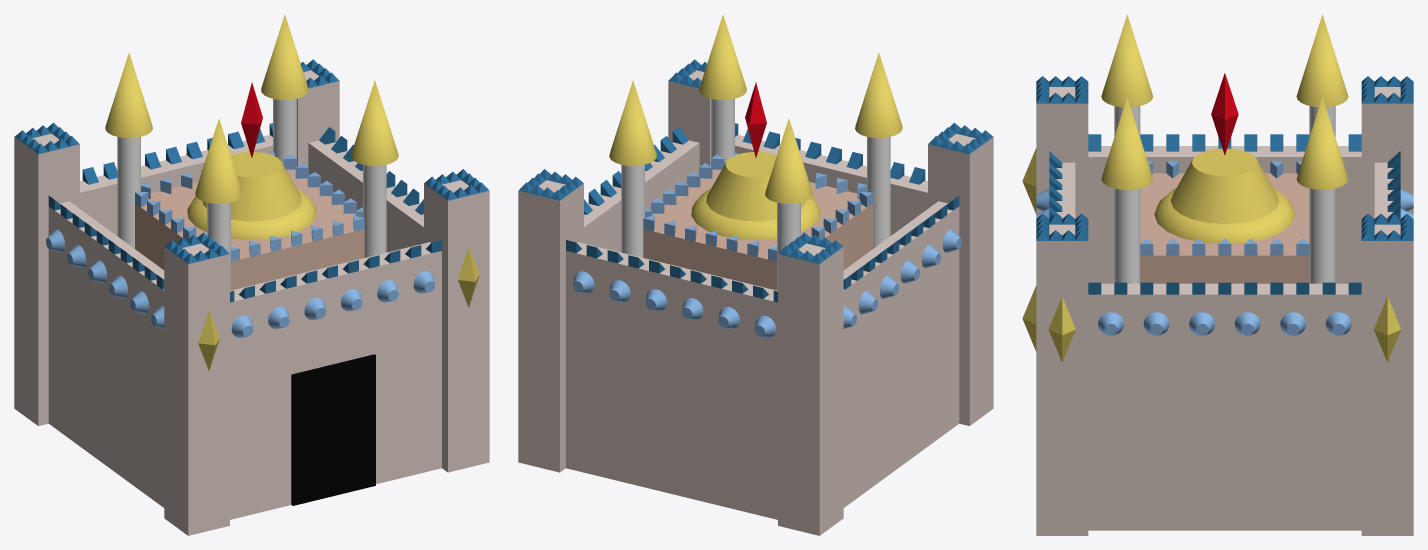
The model's file is GAME3111_A1_CastleDesign.fbx.
3 views of the same model, side by side, from view 1: azimuth 30°, elevation 25°; view 2: azimuth 150°, elevation 25°; view 3: azimuth 270°, elevation 25° (orthographic). The views are drawn at different scales.
Visible parts, largest first — view 1: pCube8, pCube10, pCube6, pCube7, pCube5, pCube24, pCone9 (×4), pCube22, pCylinder1 (×4), pCube9, pCone10, pCube4 (+5 smaller); view 2: pCube4, pCube10, pCube5, pCube3, pCube6, pCone9 (×4), pCube22, pCylinder1 (×4), pCube9, pCone10, pCube8, pCube7 (+2 smaller); view 3: pCube9, pCube7, pCube3, pCone9 (×4), pCube22, pCube10, pCone10, pCylinder1 (×2), pCube5, pCube6, pTorus1, pPyramid23 (+12 smaller).
Part boxes in pixels (x1,y1,x2,y2): pCube8: (230,242,441,519); pCube10: (48,201,164,507); pCube6: (164,243,229,535); pCube7: (424,180,489,472); pCube5: (14,133,79,425); pCube24: (291,354,375,505); pCone9 (×4): (105,14,398,203); pCube22: (135,169,364,290); pCylinder1 (×4): (117,99,386,290); pCube9: (308,140,423,252); pCone10: (202,152,301,221); pCube4: (80,135,272,235); pCube4: (566,242,777,519); pCube10: (843,201,959,507); pCube5: (778,243,843,535); pCube3: (518,180,583,472); pCube6: (928,133,993,425); pCone9 (×4): (609,14,902,203); pCube22: (643,169,872,290); pCylinder1 (×4): (621,99,890,290); pCube9: (584,140,699,252); pCone10: (706,152,805,221); pCube8: (735,135,927,235); pCube7: (668,70,710,166); pCube9: (1088,283,1361,530); pCube7: (1036,224,1088,535); pCube3: (1361,224,1413,535); pCone9 (×4): (1101,14,1348,189); pCube22: (1140,173,1309,283); pCube10: (1088,146,1361,283); pCone10: (1170,148,1278,223); pCylinder1 (×2): (1114,188,1335,283); pCube5: (1361,87,1413,218); pCube6: (1036,87,1088,218); pTorus1: (1154,188,1295,243); pPyramid23: (1211,73,1238,155).
Size of what is drawn, in the model's own units: 60.12 by 68 by 60.12.
